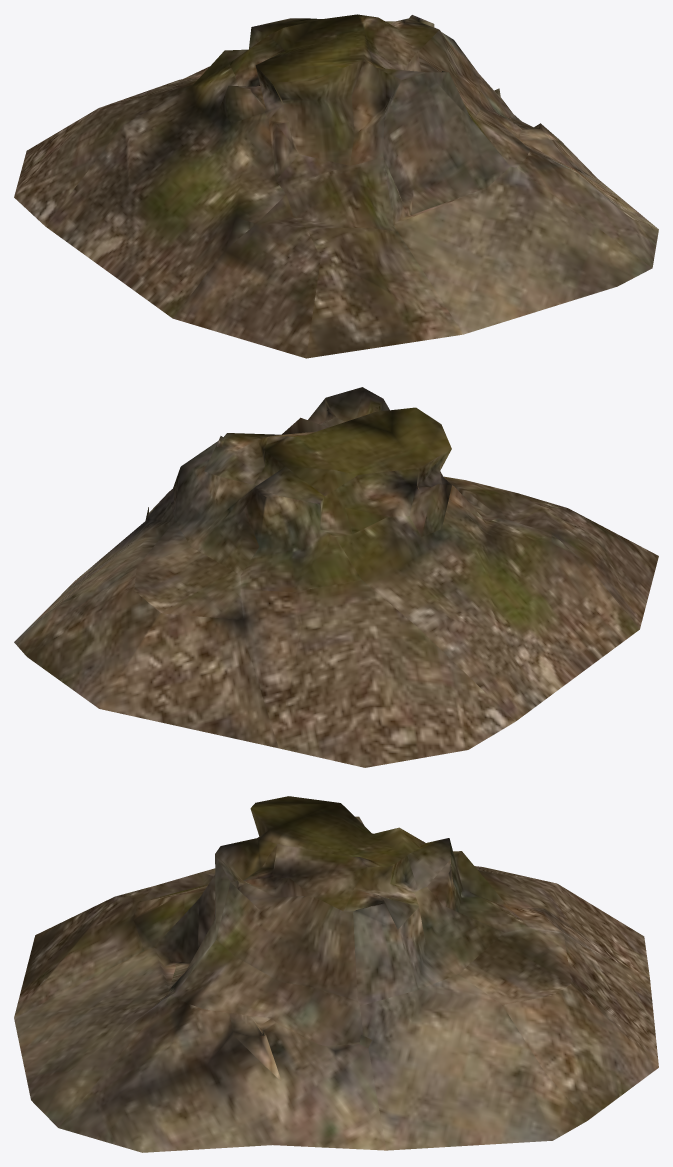
Rendered from tree_stump_01.glb.
3 renders of one model, top to bottom at view 1: azimuth 30°, elevation 25°; view 2: azimuth 150°, elevation 25°; view 3: azimuth 270°, elevation 25°, orthographic. The views are drawn at different scales.
Visible parts, largest first — view 1: tree_stump_01; view 2: tree_stump_01; view 3: tree_stump_01.
Part boxes in pixels (left/top/right/bottom): tree_stump_01: left=14, top=14, right=658, bottom=358; tree_stump_01: left=14, top=387, right=658, bottom=767; tree_stump_01: left=14, top=796, right=658, bottom=1152.
Size of the model in its own units: 1.42 by 0.555 by 1.59.
Materials: 1 (1 with a texture image).
